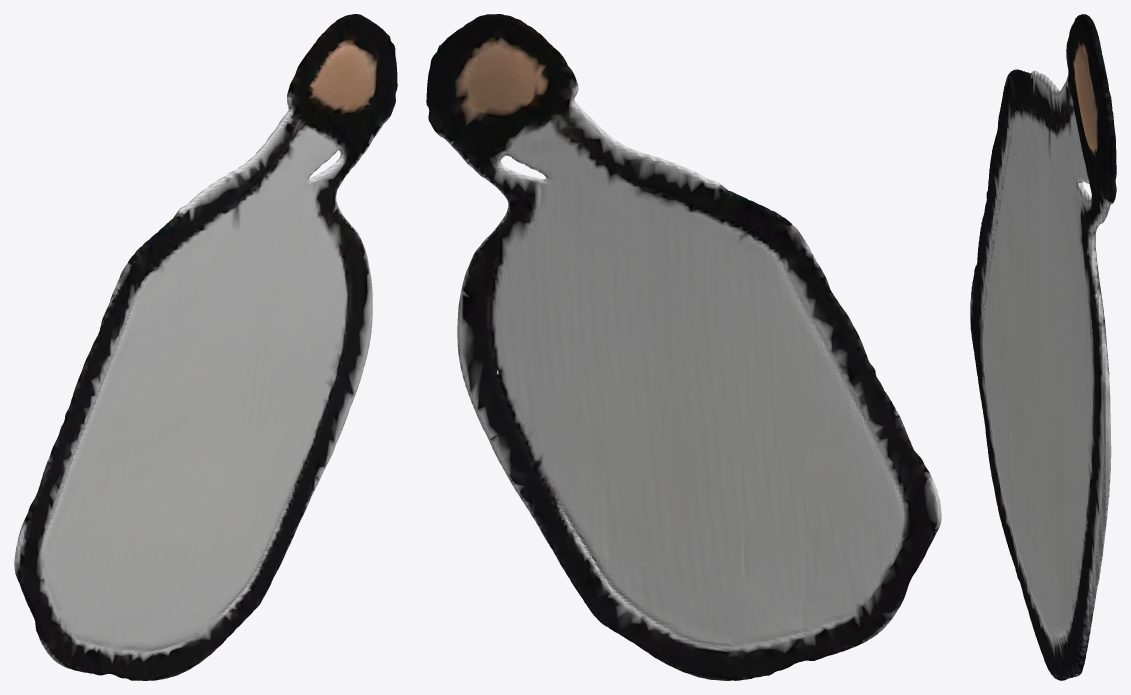
The model's file is water_diamond.glb.
The picture shows the model from 3 angles, left to right: view 1: azimuth 30°, elevation 25°; view 2: azimuth 150°, elevation 25°; view 3: azimuth 270°, elevation 25°; orthographic projection. The views are drawn at different scales.
Parts seen in each view (by area): view 1: geometry_0; view 2: geometry_0; view 3: geometry_0.
Boxes of the visible parts, x1=… form: geometry_0: x1=14, y1=14, x2=397, y2=680; geometry_0: x1=426, y1=14, x2=941, y2=680; geometry_0: x1=970, y1=14, x2=1116, y2=680.
Bounding box in the file's own units: 0.4375 × 0.5754 × 0.1.
